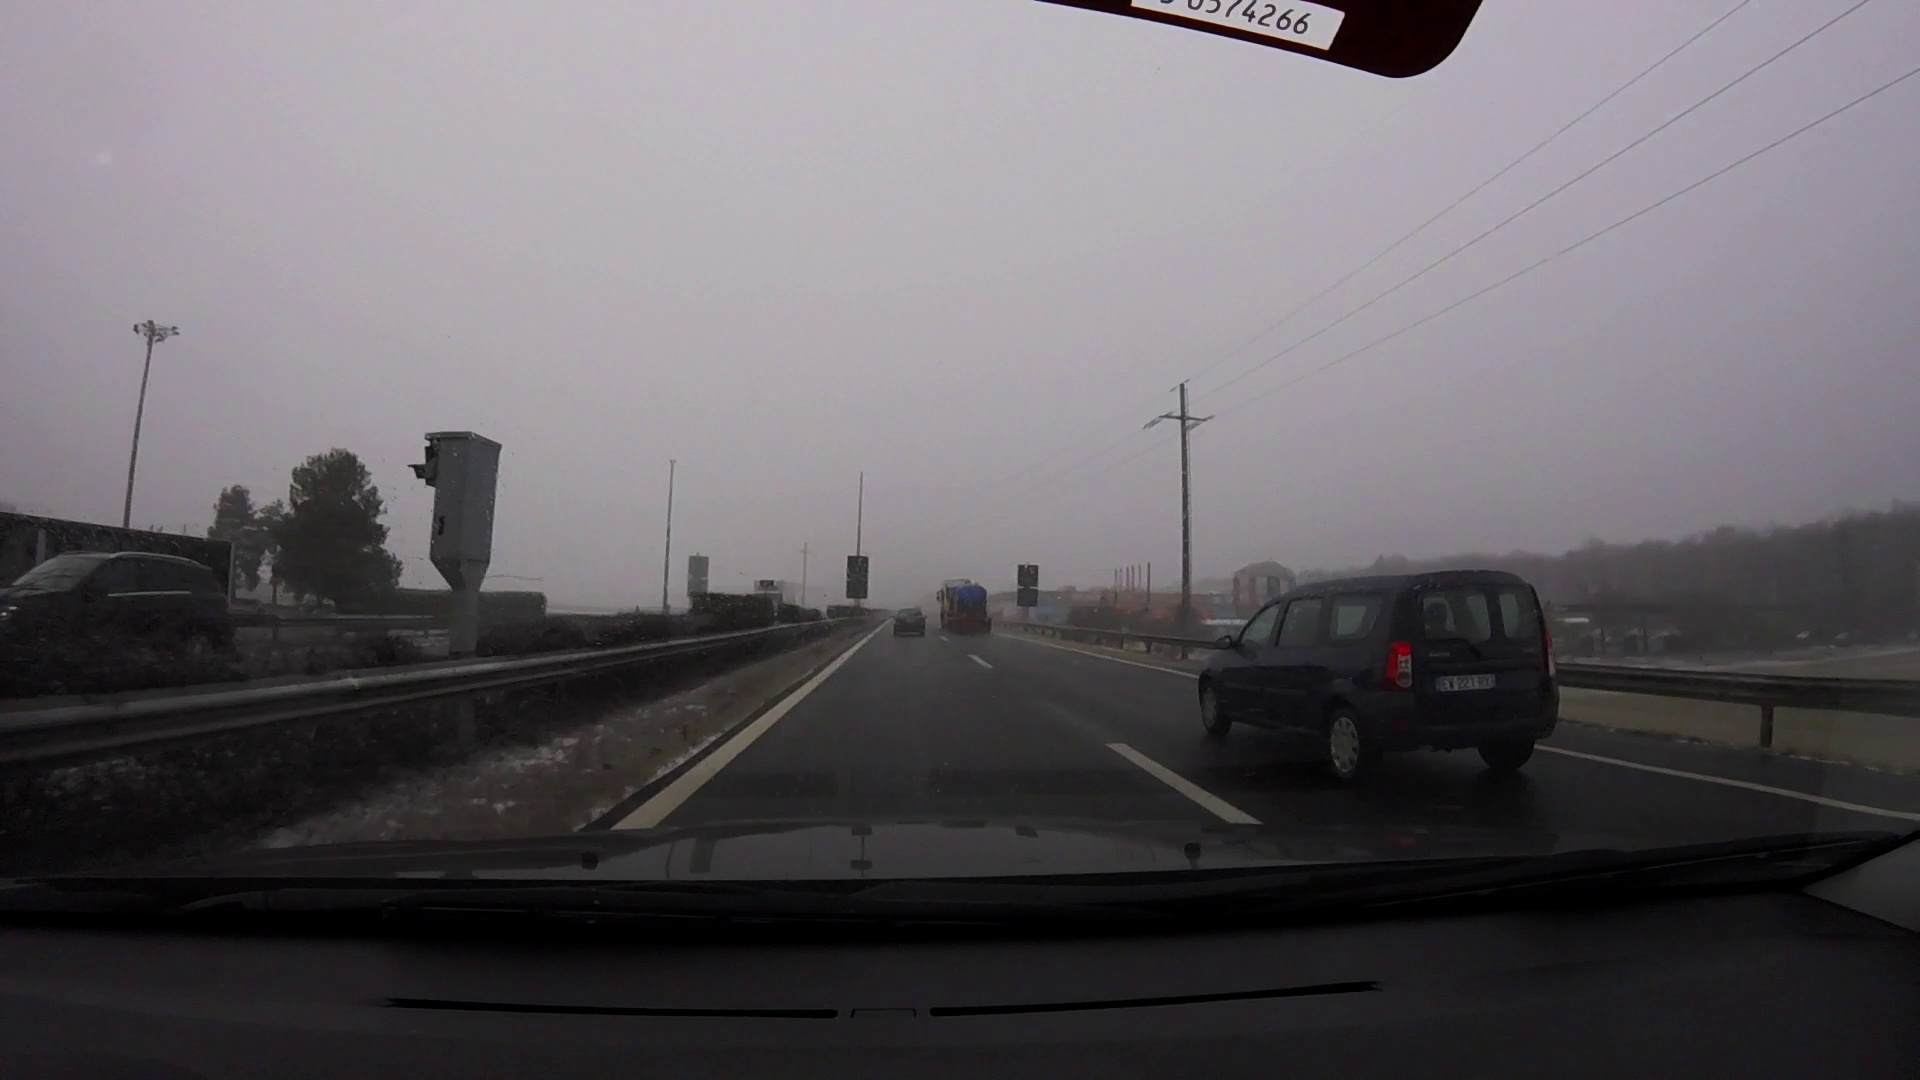radar: (406, 429, 505, 612)
